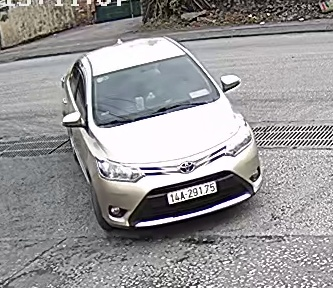vehicle plate: (165, 181, 217, 204)
